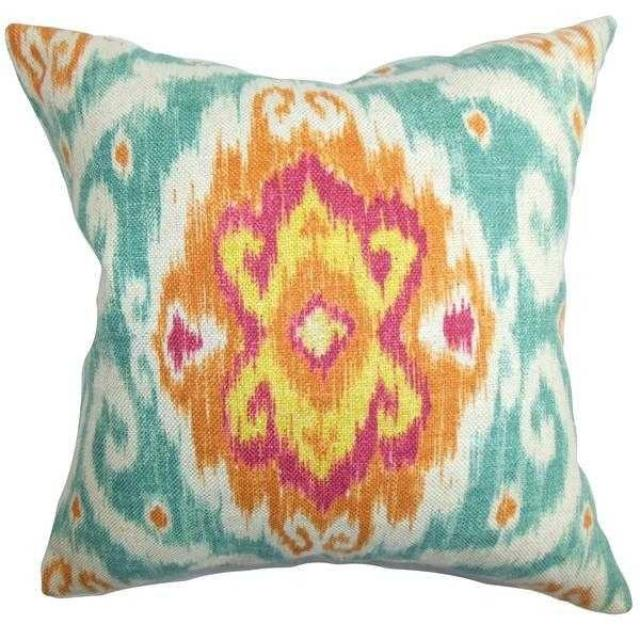pillow: (4, 14, 632, 614)
